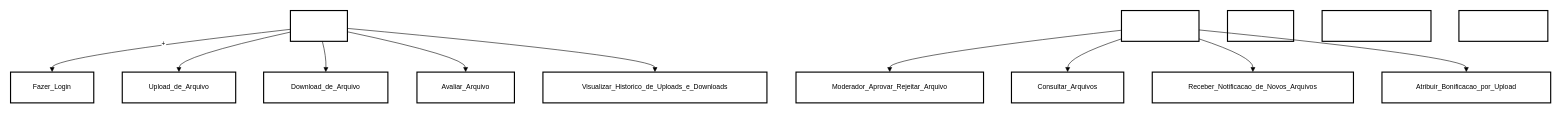
Some shapes in this 1561 by 113 pixel diagram are drawn without their labels. The box of each missing label's shape, as (x1, y1, x2, y2) in pixels:
Aluno: (290, 10, 348, 42)
Cadastrar_Usuario: (1321, 10, 1431, 42)
Fazer_Logout: (1458, 10, 1548, 42)
Moderador: (1121, 10, 1199, 42)
Sistema: (1227, 10, 1294, 42)
